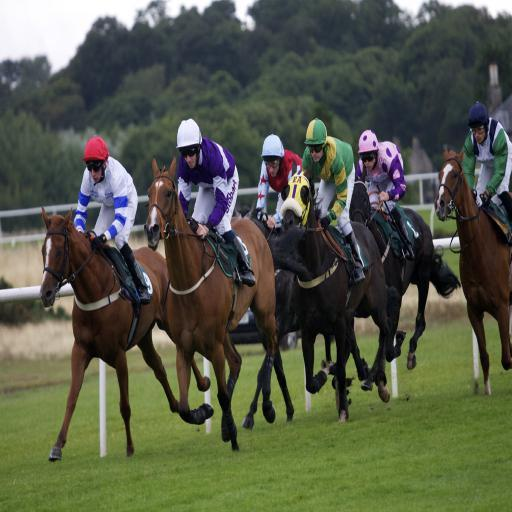Horse: (38, 156, 461, 462), (434, 151, 512, 397)
